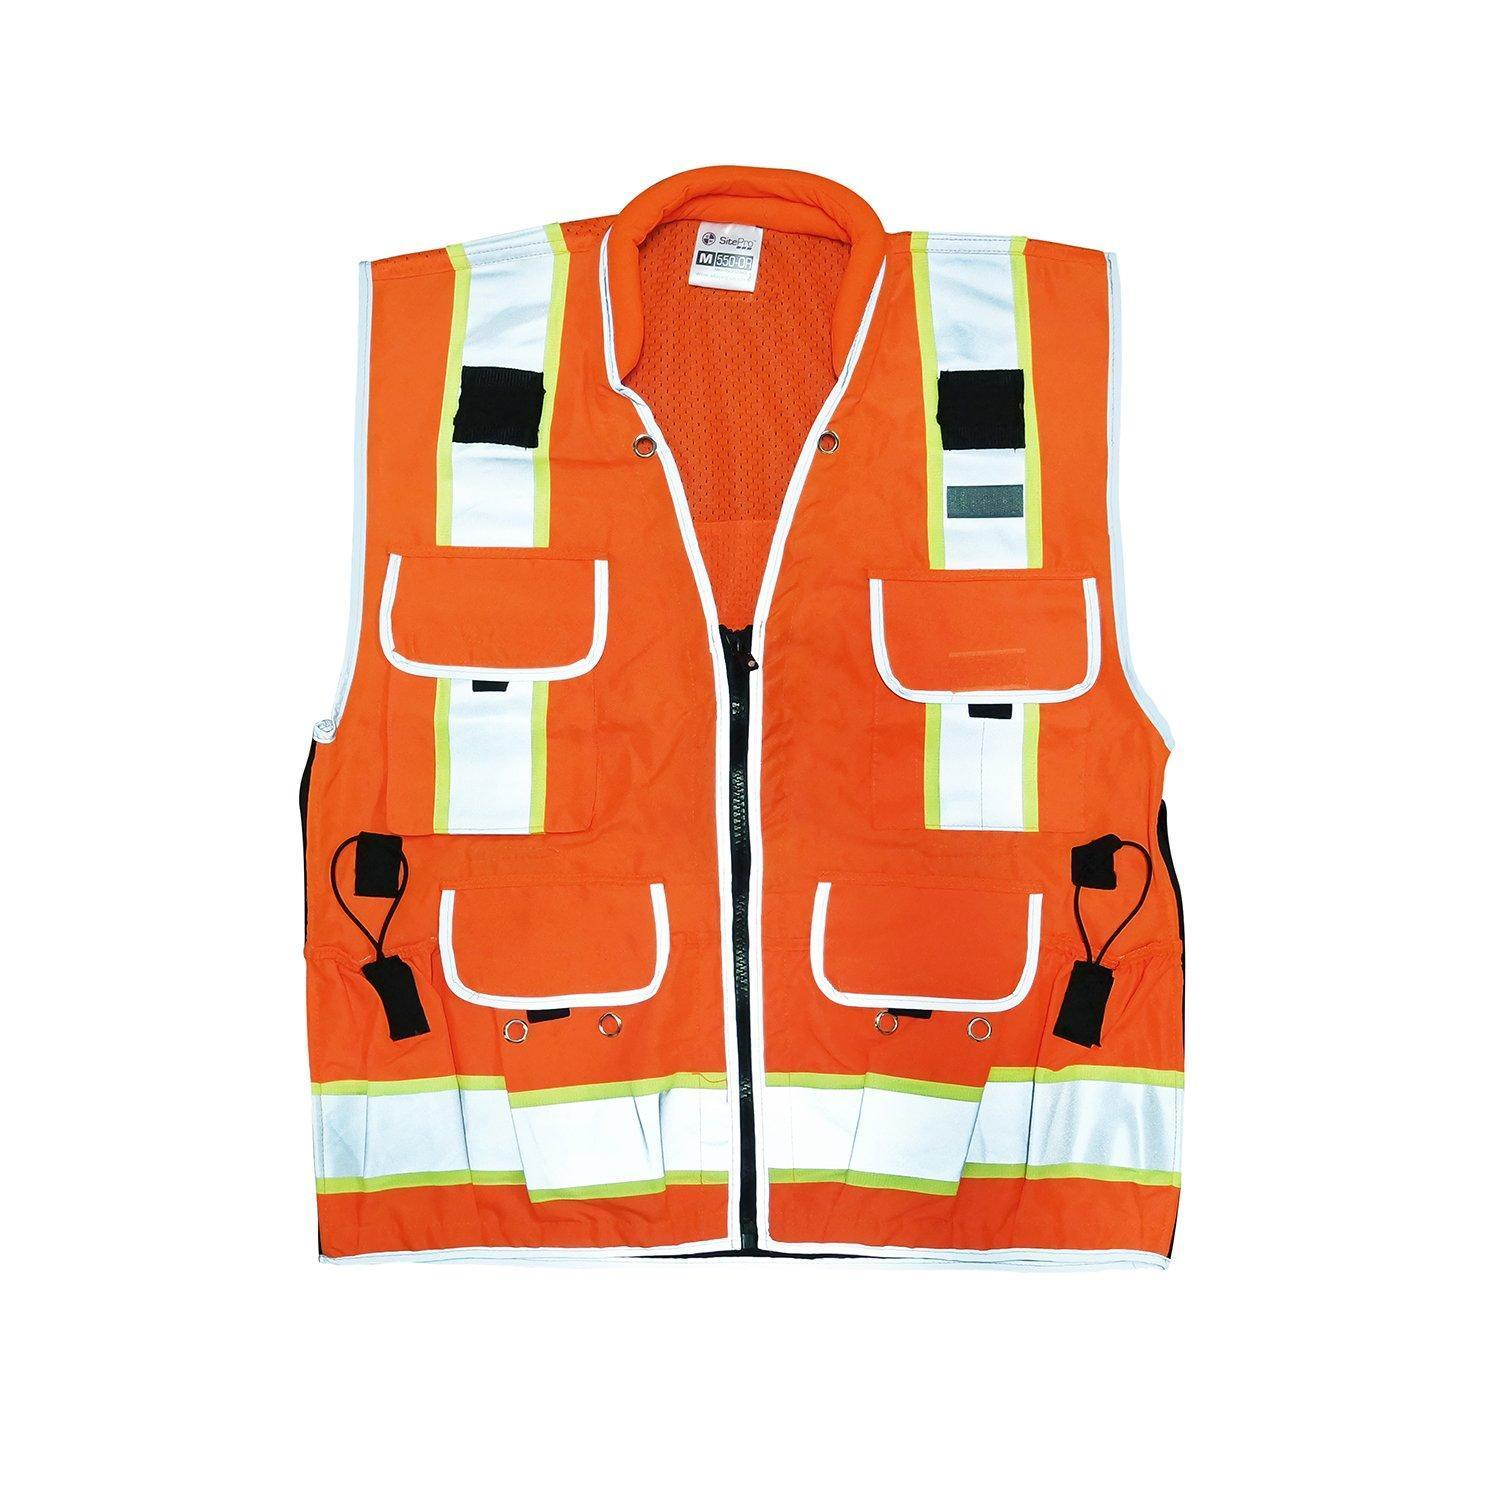vest: (286, 162, 1190, 1277)
